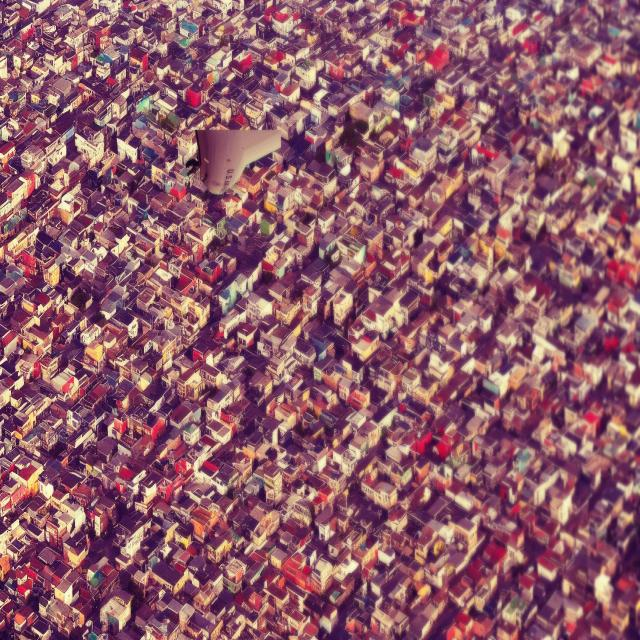airplane: (194, 130, 281, 194)
